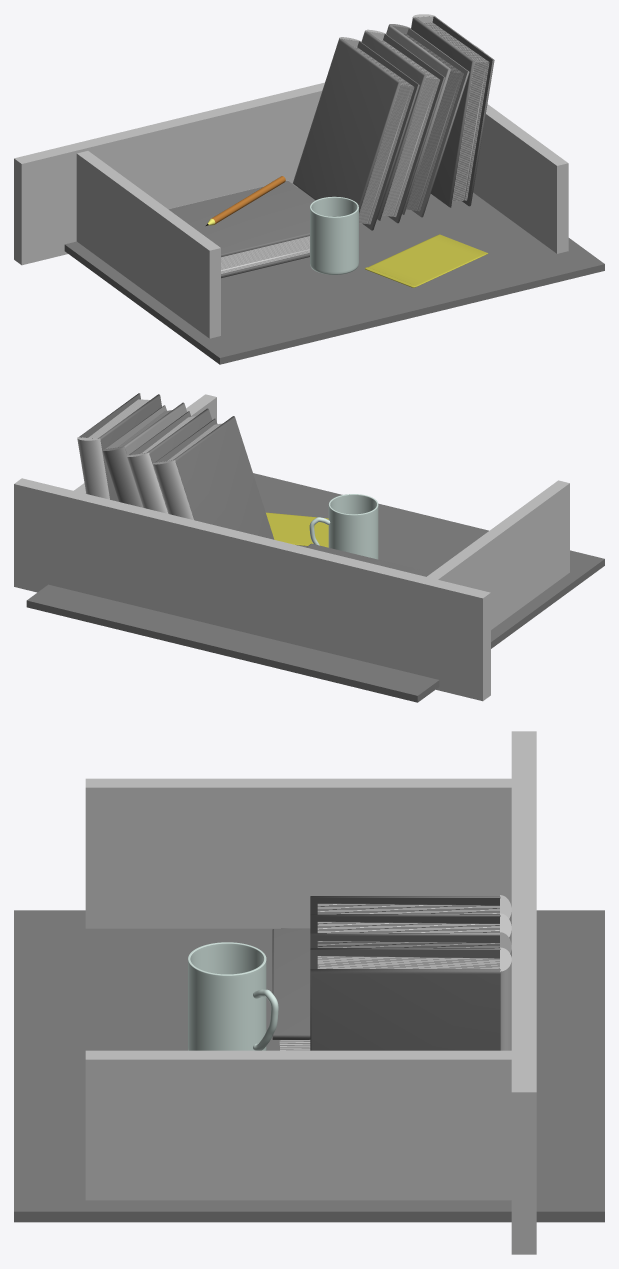
3 views of the same model, one above another, from view 1: azimuth 30°, elevation 25°; view 2: azimuth 150°, elevation 25°; view 3: azimuth 270°, elevation 25° (orthographic). The views are drawn at different scales.
Parts seen in each view (by area): view 1: Box001, Box004, Box003, Cylinder005, Box002, Cylinder006, Cylinder002, Cylinder004, Cylinder003, Cylinder001, Box007, Cylinder007; view 2: Box004, Box001, Box003, Cylinder005, Cylinder002, Cylinder001, Cylinder004, Cylinder003, Box007, Cylinder006, Box002; view 3: Box001, Box002, Box003, Cylinder002, Box004, Cylinder001, Cylinder006, Cylinder004, Cylinder005, Cylinder003.
Boxes of the visible parts, left/top/right/bottom form: Box001: left=64, top=187, right=604, bottom=364; Box004: left=14, top=45, right=483, bottom=265; Box003: left=76, top=151, right=220, bottom=338; Cylinder005: left=292, top=37, right=419, bottom=230; Box002: left=473, top=104, right=568, bottom=253; Cylinder006: left=168, top=180, right=314, bottom=278; Cylinder002: left=411, top=14, right=494, bottom=207; Cylinder004: left=361, top=29, right=445, bottom=223; Cylinder003: left=386, top=24, right=469, bottom=217; Cylinder001: left=310, top=196, right=358, bottom=274; Box007: left=365, top=234, right=488, bottom=287; Cylinder007: left=206, top=176, right=285, bottom=225; Box004: left=14, top=478, right=490, bottom=701; Box001: left=26, top=473, right=604, bottom=702; Box003: left=427, top=480, right=569, bottom=629; Cylinder005: left=153, top=416, right=274, bottom=539; Cylinder002: left=77, top=393, right=161, bottom=501; Cylinder001: left=309, top=494, right=378, bottom=559; Cylinder004: left=127, top=408, right=212, bottom=513; Cylinder003: left=102, top=402, right=186, bottom=507; Box007: left=266, top=512, right=328, bottom=547; Cylinder006: left=306, top=543, right=431, bottom=576; Box002: left=74, top=394, right=216, bottom=493; Box001: left=14, top=910, right=604, bottom=1222; Box002: left=85, top=1050, right=511, bottom=1200; Box003: left=85, top=778, right=511, bottom=928; Cylinder002: left=310, top=947, right=511, bottom=1050; Box004: left=511, top=731, right=536, bottom=1254; Cylinder001: left=188, top=942, right=278, bottom=1050; Cylinder006: left=272, top=928, right=310, bottom=1050; Cylinder004: left=310, top=913, right=511, bottom=944; Cylinder005: left=310, top=895, right=511, bottom=925; Cylinder003: left=310, top=932, right=511, bottom=956.
Size of what is drawn, in the model's own units: 217 by 69.82 by 150.
